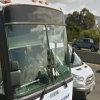Bus: (2, 1, 78, 100)
